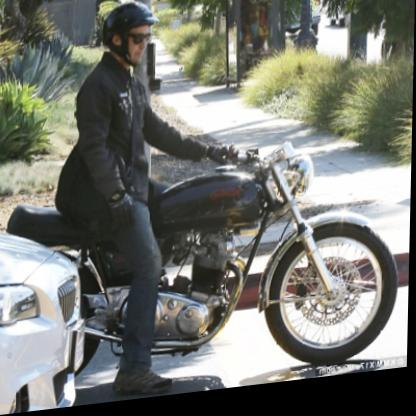With Helmet: (96, 0, 159, 76)
